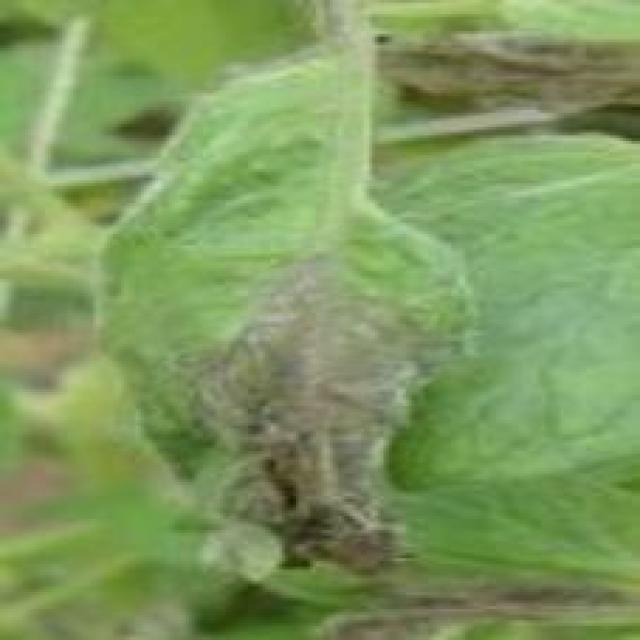Late Blight: (83, 42, 492, 592)
